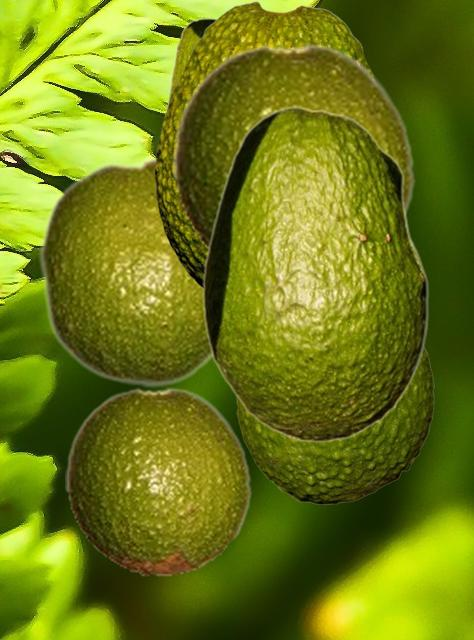avocado: (202, 105, 428, 442), (154, 1, 374, 288), (172, 43, 416, 251), (38, 155, 212, 388), (65, 387, 252, 576), (236, 347, 433, 503), (160, 18, 216, 129)
